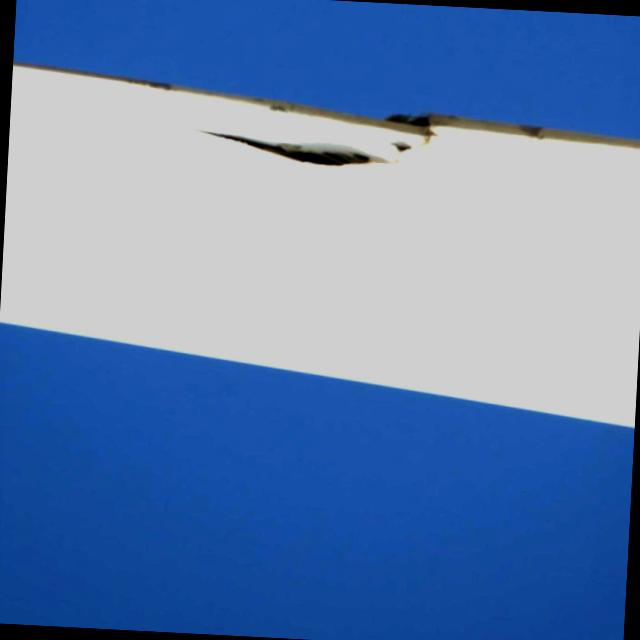crack: (180, 96, 451, 182)
